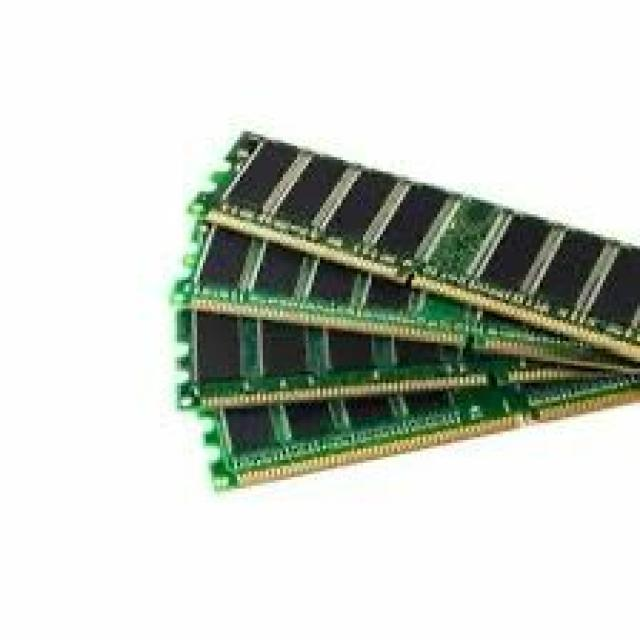Ram: (80, 78, 606, 540)
